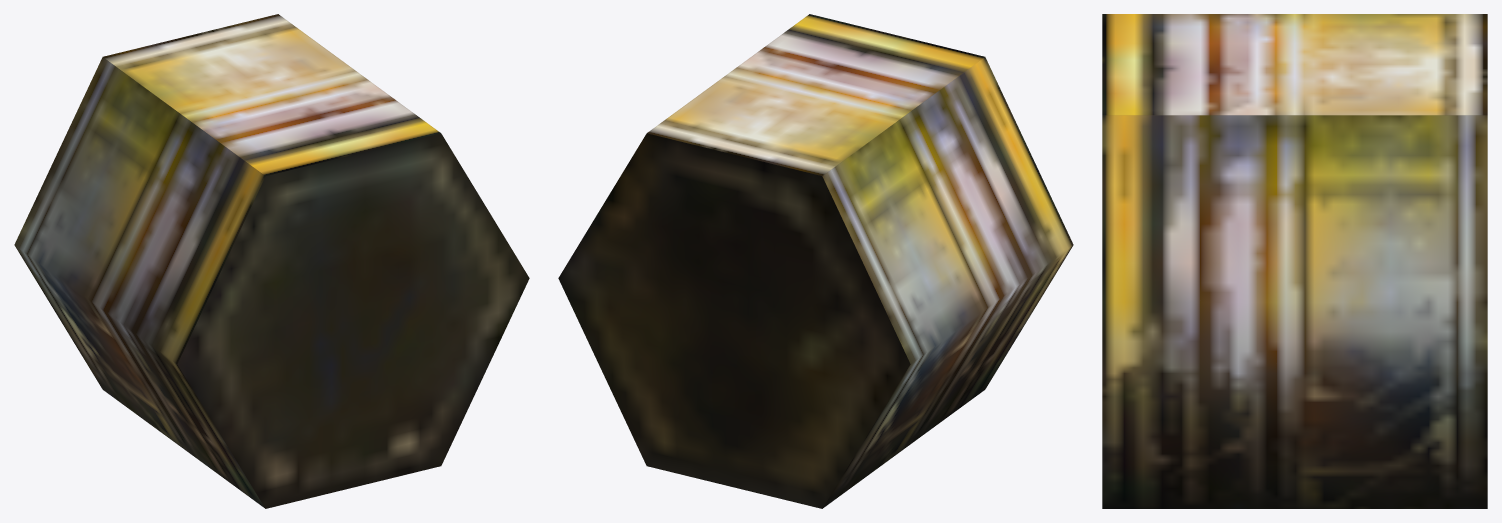
File: gun16_reload.obj
3 renders of one model, left to right at view 1: azimuth 30°, elevation 25°; view 2: azimuth 150°, elevation 25°; view 3: azimuth 270°, elevation 25°, orthographic. The views are drawn at different scales.
Visible parts, largest first — view 1: gun16_reload; view 2: gun16_reload; view 3: gun16_reload.
Part boxes in pixels (left/top/right/bottom): gun16_reload: left=14, top=14, right=529, bottom=508; gun16_reload: left=558, top=14, right=1073, bottom=508; gun16_reload: left=1102, top=14, right=1487, bottom=508.
Size of the model in its own units: 0.3657 by 0.3301 by 0.2931.
Materials: 1 (1 with a texture image).
